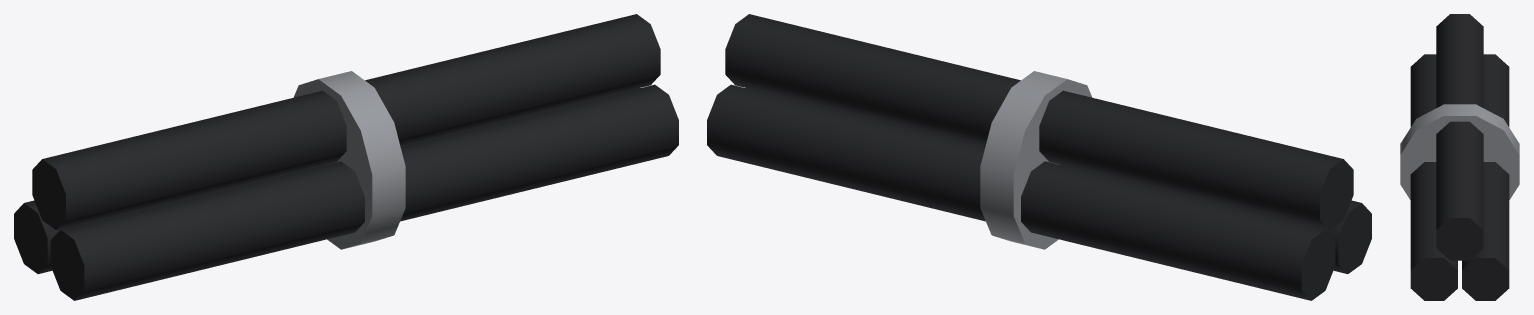
Rendered from item.obj.
The picture shows the model from 3 angles, left to right: view 1: azimuth 30°, elevation 25°; view 2: azimuth 150°, elevation 25°; view 3: azimuth 270°, elevation 25°; orthographic projection. The views are drawn at different scales.
Parts seen in each view (by area): view 1: item; view 2: item; view 3: item.
Part boxes in pixels (box(x1,y1,x2,y2)): item: box(14, 14, 678, 300); item: box(707, 14, 1371, 300); item: box(1400, 14, 1519, 300).
Size of the model in its own units: 1 by 0.2475 by 0.2475.
